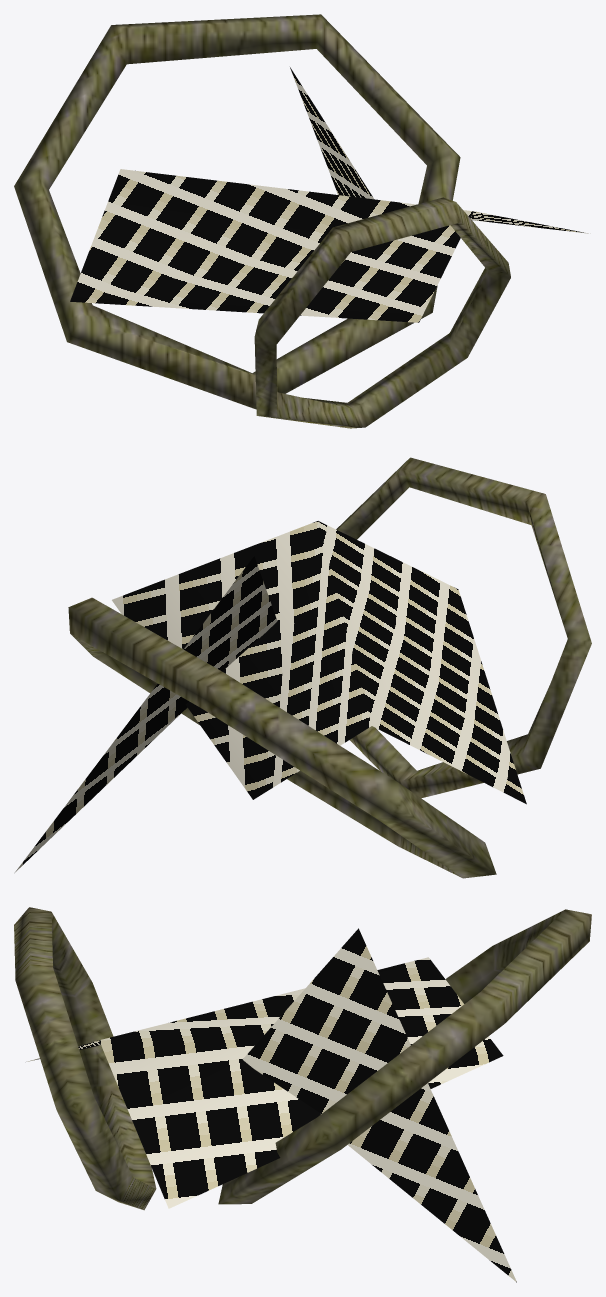
The model's file is broken_bownet.obj.
The picture shows the model from 3 angles, top to bottom: view 1: azimuth 30°, elevation 25°; view 2: azimuth 150°, elevation 25°; view 3: azimuth 270°, elevation 25°; orthographic projection. The views are drawn at different scales.
Parts seen in each view (by area): view 1: Duplicate02, Duplicate04, Duplicate01; view 2: Duplicate02, Duplicate04, Duplicate01; view 3: Duplicate02, Duplicate01, Duplicate04.
Boxes of the visible parts, bbox=[...] form: Duplicate02: bbox=[14, 14, 590, 409]; Duplicate04: bbox=[254, 197, 510, 428]; Duplicate01: bbox=[290, 67, 373, 199]; Duplicate02: bbox=[68, 521, 526, 878]; Duplicate04: bbox=[336, 457, 591, 798]; Duplicate01: bbox=[15, 556, 277, 872]; Duplicate02: bbox=[27, 909, 591, 1208]; Duplicate01: bbox=[242, 928, 516, 1282]; Duplicate04: bbox=[14, 907, 156, 1210].
Bounding box in the file's own units: 27.48 × 16.56 × 28.7.
